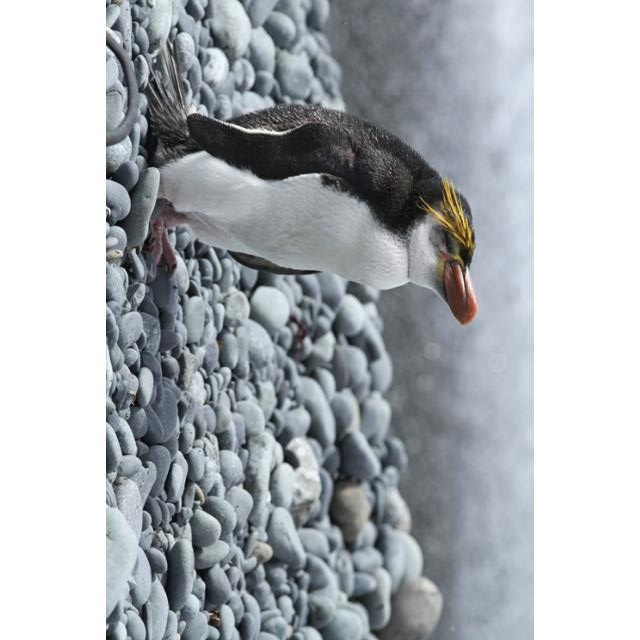penguin: (140, 40, 480, 323)
